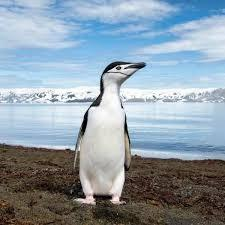chinstrap: (50, 50, 153, 221)
